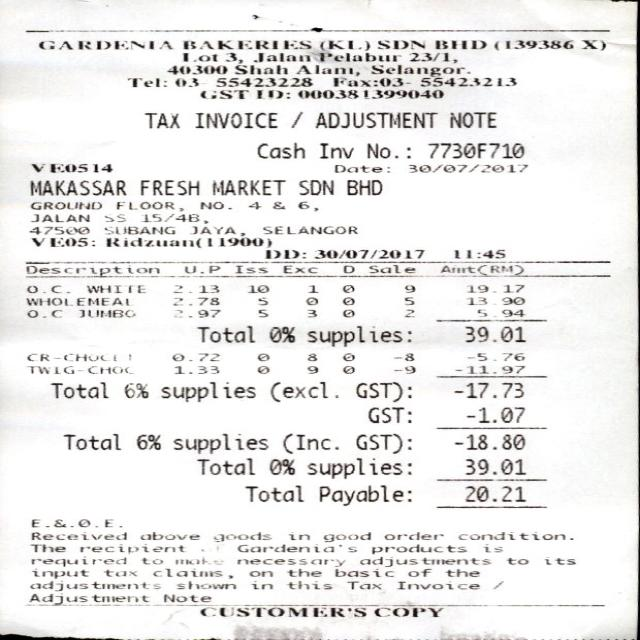text: (305, 456, 410, 478), (305, 325, 410, 346), (314, 110, 436, 128), (319, 483, 403, 506), (170, 433, 266, 453), (159, 381, 254, 401), (198, 606, 364, 616), (24, 264, 161, 276), (28, 179, 125, 195), (427, 142, 522, 158), (358, 555, 489, 566), (193, 111, 276, 128), (268, 381, 336, 401), (28, 580, 159, 590), (182, 39, 310, 49), (27, 594, 151, 604), (355, 380, 410, 402), (38, 40, 172, 49), (209, 179, 284, 195), (369, 64, 468, 76), (453, 381, 522, 398), (296, 90, 442, 98), (454, 433, 524, 449), (280, 433, 336, 453), (355, 433, 410, 453), (464, 484, 524, 502), (236, 543, 355, 552), (104, 236, 199, 247), (409, 163, 525, 172), (48, 380, 106, 398), (61, 432, 119, 450), (370, 543, 464, 554), (464, 457, 524, 474), (194, 325, 253, 342), (194, 457, 253, 474), (244, 484, 302, 501), (440, 264, 522, 276), (419, 76, 515, 86), (214, 76, 310, 86), (464, 326, 524, 342), (31, 556, 124, 566), (456, 532, 572, 540), (312, 250, 423, 258), (466, 407, 524, 422), (261, 225, 356, 234), (30, 531, 125, 540), (25, 297, 128, 305), (140, 180, 198, 194), (449, 110, 494, 128), (29, 162, 110, 172), (492, 40, 572, 50), (151, 568, 231, 578), (293, 64, 358, 76), (235, 559, 343, 566), (256, 142, 303, 158), (26, 353, 120, 361), (320, 51, 395, 61), (78, 545, 182, 552), (28, 200, 100, 210), (31, 519, 120, 527), (331, 77, 409, 86), (374, 606, 442, 616), (115, 200, 182, 210), (395, 581, 478, 589), (365, 143, 409, 158), (173, 362, 217, 377), (367, 407, 410, 422), (142, 213, 206, 223), (104, 225, 174, 234), (454, 364, 524, 373), (208, 236, 270, 246), (253, 51, 309, 62), (142, 111, 178, 128), (165, 64, 226, 74), (232, 63, 286, 74), (29, 212, 88, 222), (475, 307, 524, 319), (212, 531, 270, 541), (296, 179, 332, 195), (344, 179, 380, 195), (321, 530, 369, 542), (30, 237, 93, 246), (317, 142, 352, 158), (84, 284, 144, 293), (367, 263, 416, 274), (383, 531, 442, 540), (191, 225, 244, 235), (140, 531, 198, 540), (261, 248, 298, 262), (434, 39, 485, 49), (319, 40, 368, 50), (198, 89, 247, 99), (27, 226, 88, 234), (375, 39, 423, 49), (407, 52, 455, 62), (332, 568, 392, 576), (466, 296, 524, 304), (76, 309, 134, 317), (29, 570, 87, 578), (172, 555, 223, 564), (161, 593, 212, 602), (177, 581, 234, 589), (268, 325, 294, 342), (268, 458, 294, 475), (467, 284, 522, 292), (467, 352, 522, 360), (334, 164, 388, 172), (170, 352, 218, 361), (287, 579, 330, 589), (453, 250, 504, 258), (125, 76, 165, 86), (178, 265, 221, 274), (135, 433, 159, 449), (26, 284, 68, 293), (27, 366, 80, 373), (172, 297, 218, 305), (123, 382, 146, 398), (176, 309, 219, 317), (182, 51, 216, 61), (172, 285, 218, 292), (29, 543, 64, 552), (285, 568, 320, 576), (198, 200, 229, 209), (87, 366, 126, 373), (282, 264, 315, 272), (27, 309, 60, 317), (445, 568, 478, 576), (346, 581, 379, 589), (256, 90, 288, 98), (234, 264, 266, 272), (579, 40, 604, 50), (172, 77, 198, 86), (543, 557, 574, 564), (296, 200, 316, 210), (103, 212, 123, 222), (392, 364, 414, 373), (101, 570, 134, 576), (225, 51, 241, 63), (289, 111, 300, 127), (407, 568, 429, 576), (287, 532, 308, 540), (392, 352, 412, 360), (504, 557, 526, 564), (140, 557, 161, 564), (247, 285, 267, 292), (482, 545, 501, 552), (248, 570, 270, 576), (269, 200, 283, 209), (250, 583, 270, 589), (248, 200, 259, 209), (342, 308, 353, 317), (342, 352, 353, 361), (256, 352, 267, 361), (304, 352, 315, 361), (256, 364, 267, 373), (305, 364, 316, 373), (342, 364, 353, 373), (342, 264, 353, 272), (341, 284, 352, 292), (402, 284, 413, 292), (305, 296, 316, 304), (401, 296, 412, 304), (342, 296, 353, 304), (255, 297, 266, 305), (304, 309, 315, 317), (403, 308, 412, 317), (257, 308, 266, 317), (305, 285, 316, 292)
